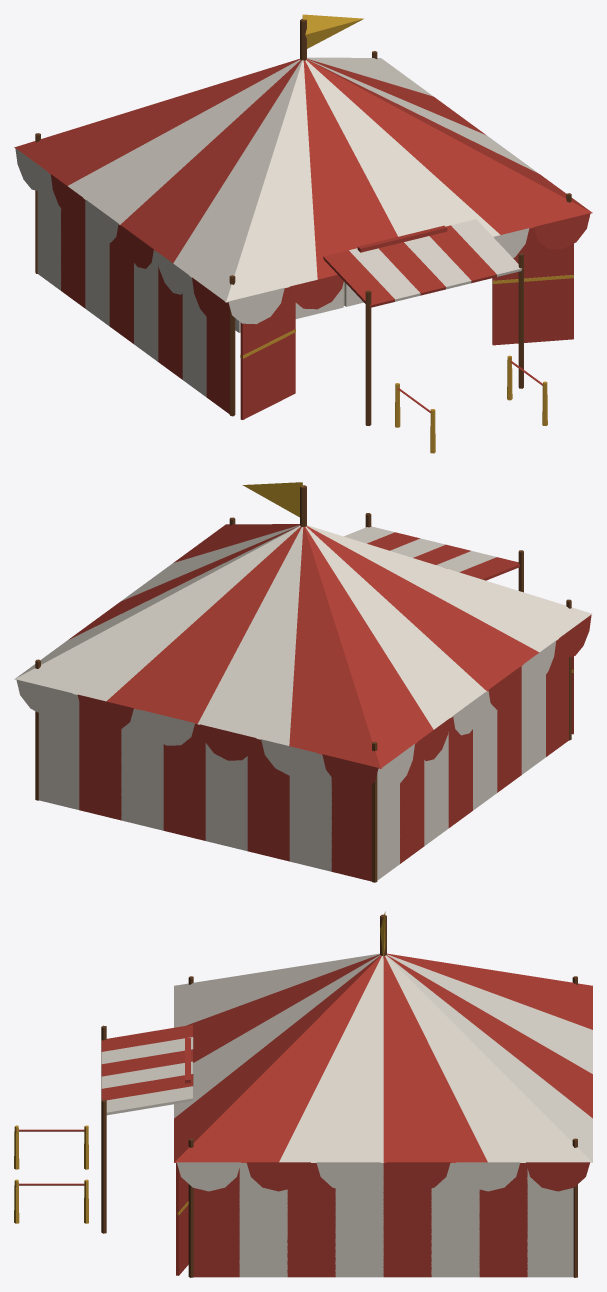
The model's file is fair.glb.
3 renders of one model, top to bottom at view 1: azimuth 30°, elevation 25°; view 2: azimuth 150°, elevation 25°; view 3: azimuth 270°, elevation 25°, orthographic.
Visible parts, largest first — view 1: prop-fair_tent, prop-fair_podium; view 2: prop-fair_tent; view 3: prop-fair_tent.
Part boxes in pixels (x1,y1,x2,y2): prop-fair_tent: (14,14,592,453); prop-fair_podium: (235,282,363,332); prop-fair_tent: (14,482,592,882); prop-fair_tent: (14,911,592,1277).
Bounding box in the file's own units: 7.2 × 5.4 × 9.95.
